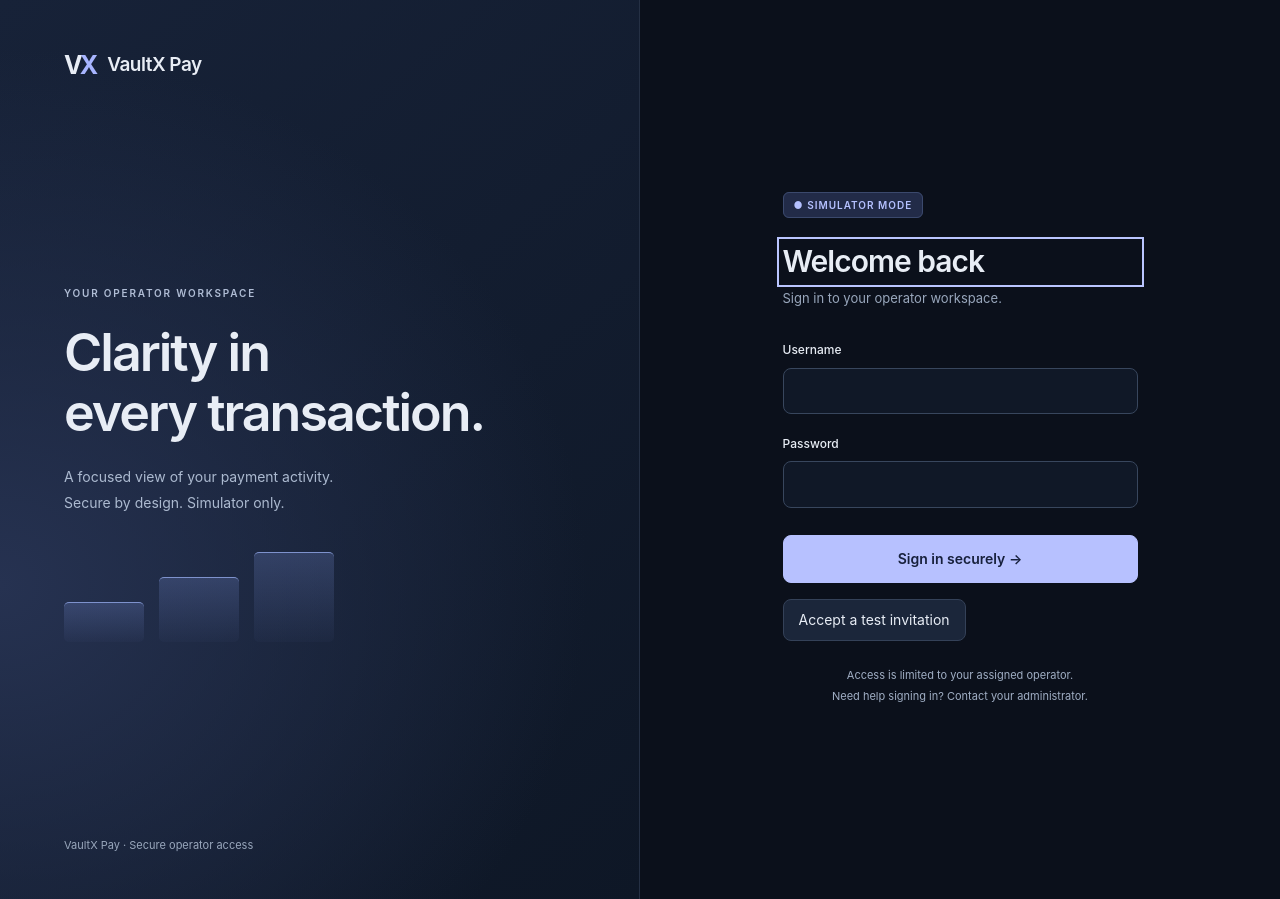
Test: uses real authentication client and clears password after login
This screenshot has width=1280, height=899.
Expected: the heading "Welcome back" is shown, [782, 243, 984, 279]
In the field labelled "Username": (960, 391) [782, 368, 1138, 414], type "viewer"
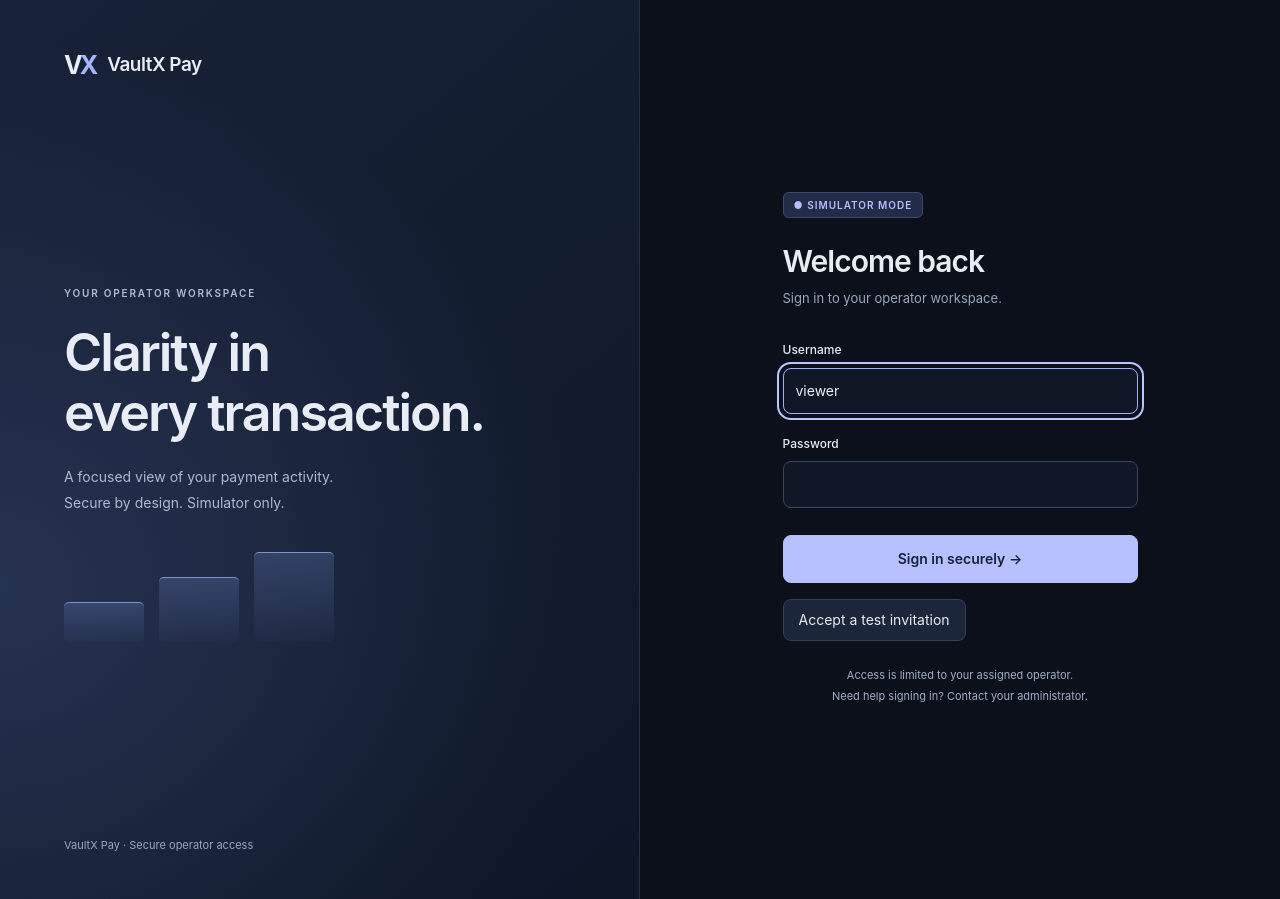
In the password field labelled "Password": (960, 484) [782, 461, 1138, 508], type "synthetic password only"
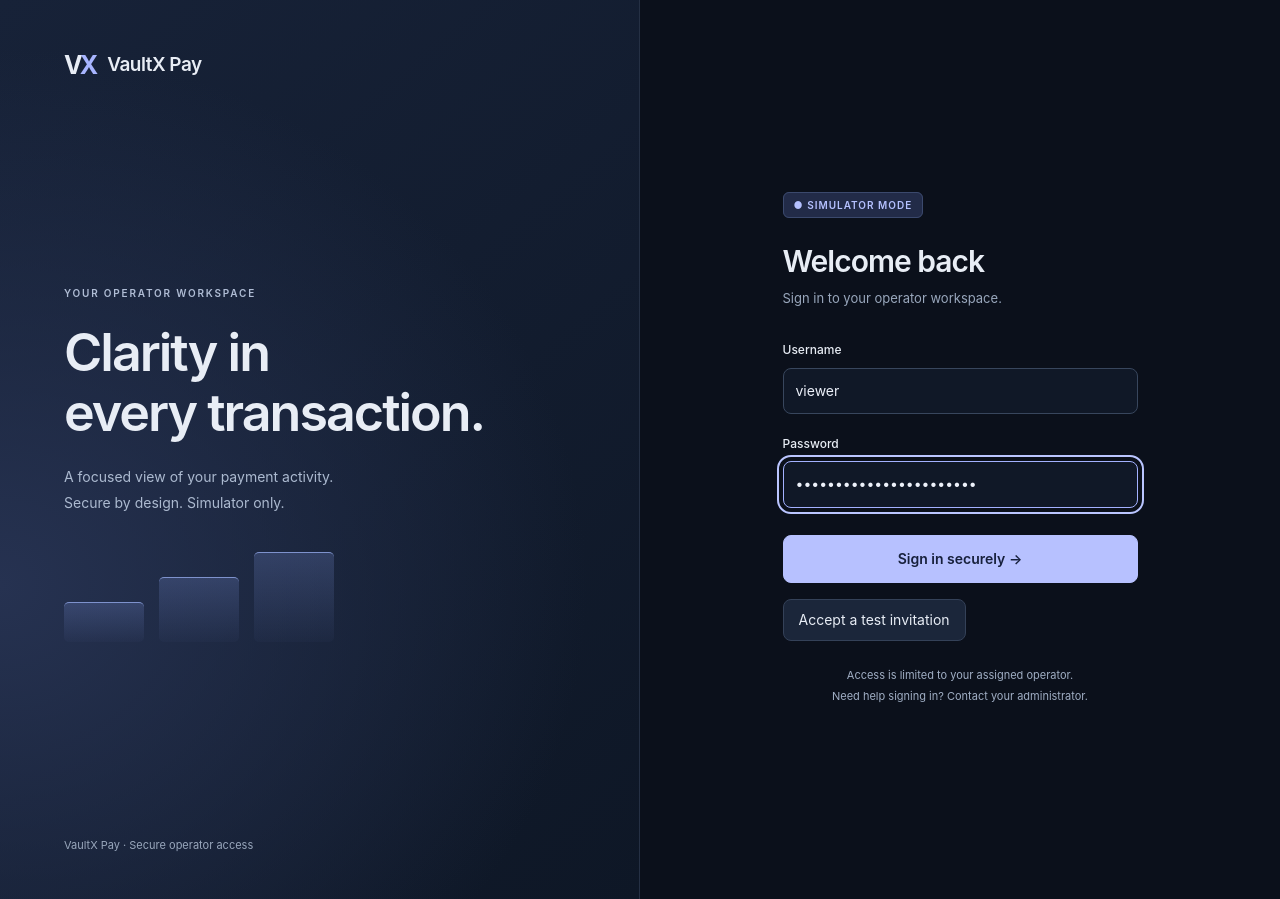
Click the button "Sign in securely →": (960, 559) [782, 535, 1138, 583]
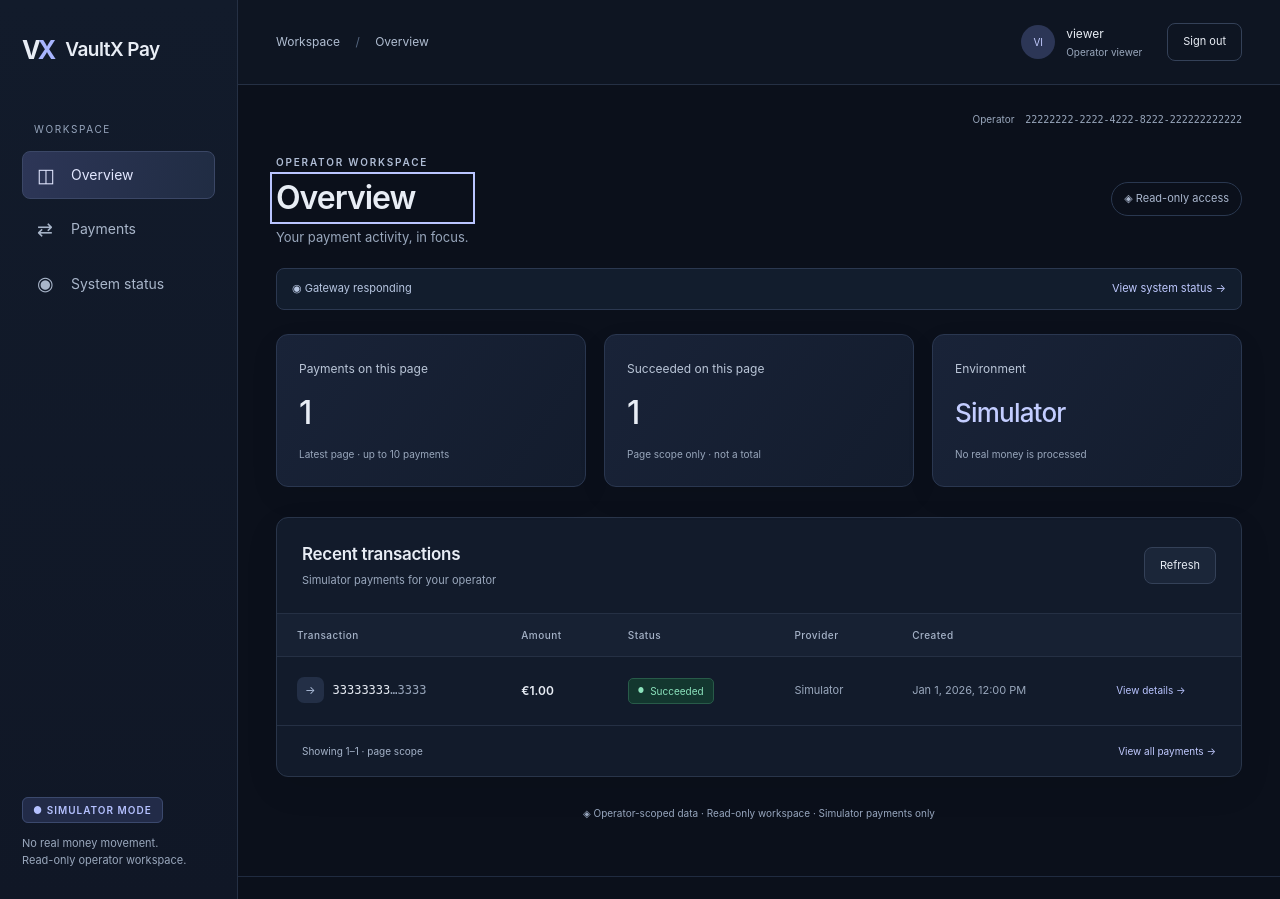
Expected: the heading "Overview" is shown, [276, 178, 415, 217]
